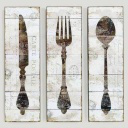fork: (51, 12, 77, 128)
